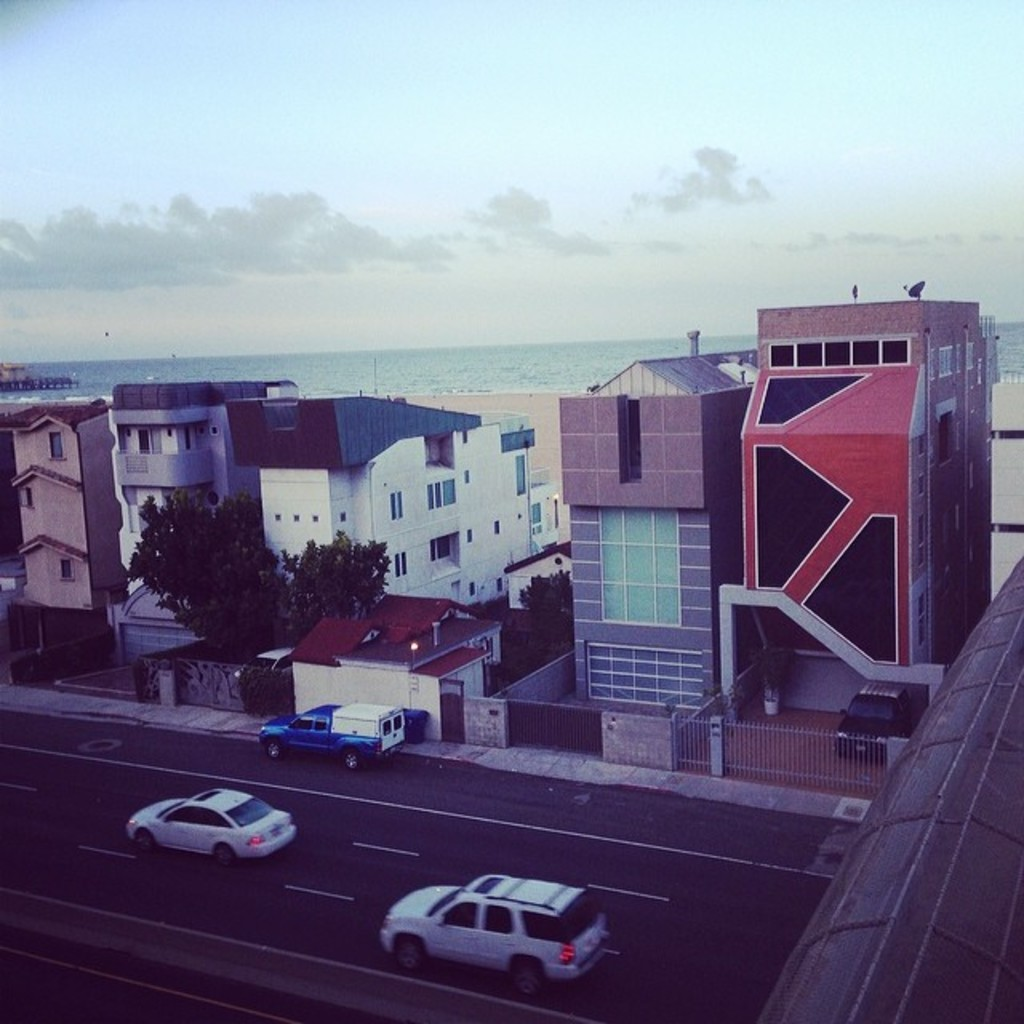Car: (382, 876, 615, 998), (123, 787, 297, 871), (841, 684, 907, 760)
